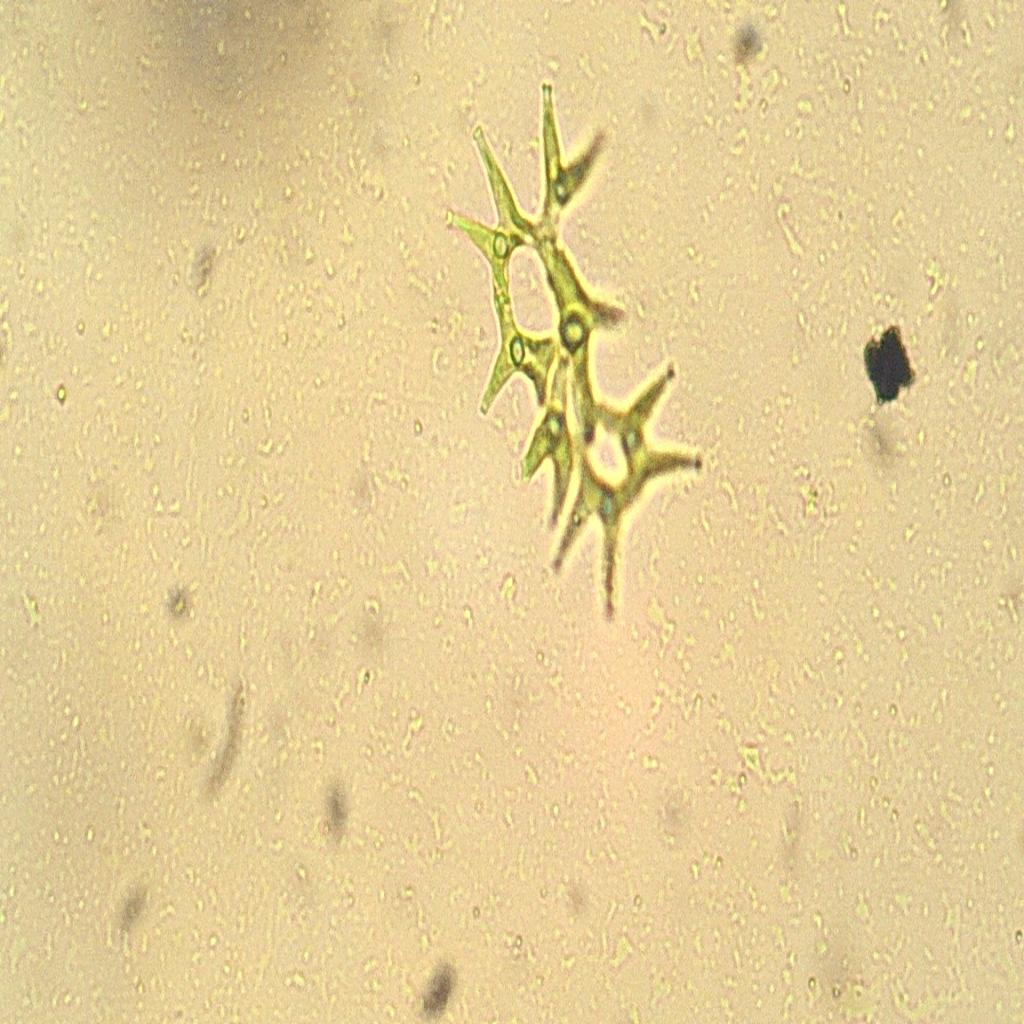Pediastrum_CFI: (424, 70, 708, 636)
